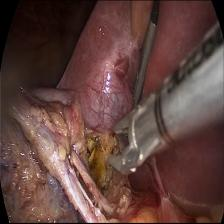Clipper: (104, 72, 174, 177)
Grasper: (128, 36, 156, 111)
